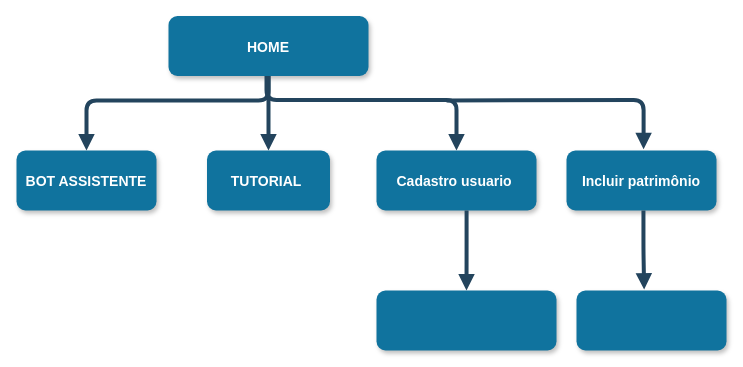
Image size: 743x367. Some labels were removed from this diagram. The centre of each missing label's shape, as x and y in pixels:
VALIDAÇÃO DE CONTA: point 467,321
VISTORIAR: point 652,321
